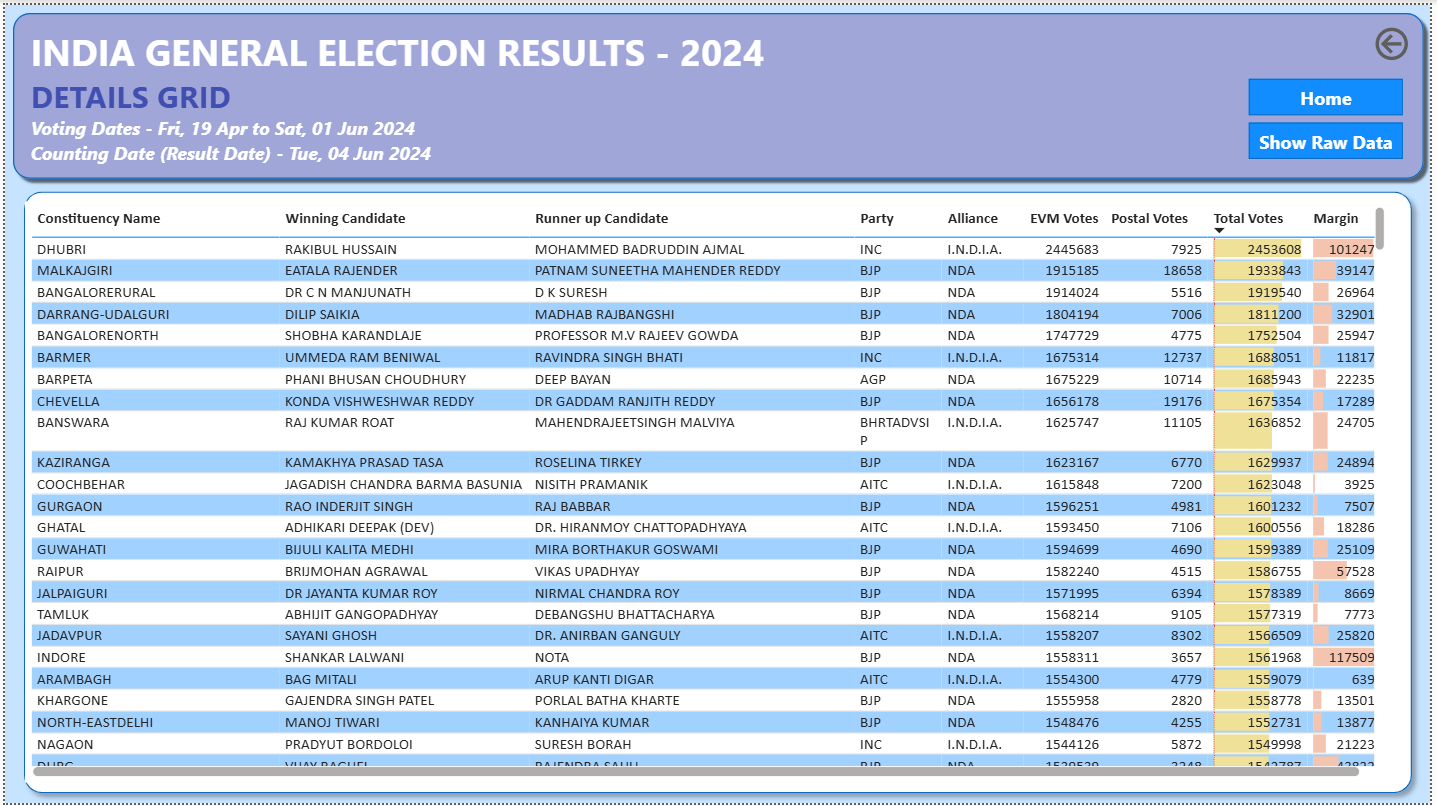

Layout of this report page (visuals, bound fields, positions):
{"tool":"powerbi","page":{"name":"DETAILS GRID","canvas":[1250,700],"ordinal":5},"visuals":[{"type":"shape","box":[0,0,1250.7,159.3],"z":0},{"type":"textbox","box":[17.8,14.3,700.2,145],"z":1000},{"type":"shape","box":[7.5,154.3,1234.7,545.4],"z":2000},{"type":"tableEx","fields":{"Values":["constituencywise_results.Constituency Name","constituencywise_results.Winning Candidate","constituencywise_details.Runner up Candidate","constituencywise_results.Party Shortagain","constituencywise_results.Party Alliance","Sum(constituencywise_details.EVM Votes)","Sum(constituencywise_details.Postal Votes)","Sum(constituencywise_details.Total Votes)","Sum(constituencywise_results.Margin)"]},"box":[18,172.3,1197.3,509.5],"z":3000},{"type":"actionButton","box":[1196.7,14.3,38.1,40.5],"z":4000},{"type":"shape","box":[1090.2,103.4,135.5,32.1],"z":5000},{"type":"shape","box":[1090.2,64.2,135.5,32.1],"z":6000}]}

Visuals, with their boxes in screenshot pixels (x1, y1, x2, y2), scaled from the page's 1250x700 canvas onto the 1437x806 screenshot:
shape: 0,0,1436,183
textbox: 20,16,825,183
shape: 9,178,1428,805
tableEx - constituencywise_results.Constituency Name x constituencywise_results.Winning Candidate: 21,198,1397,785
actionButton: 1376,16,1420,63
shape: 1253,119,1409,156
shape: 1253,74,1409,111
